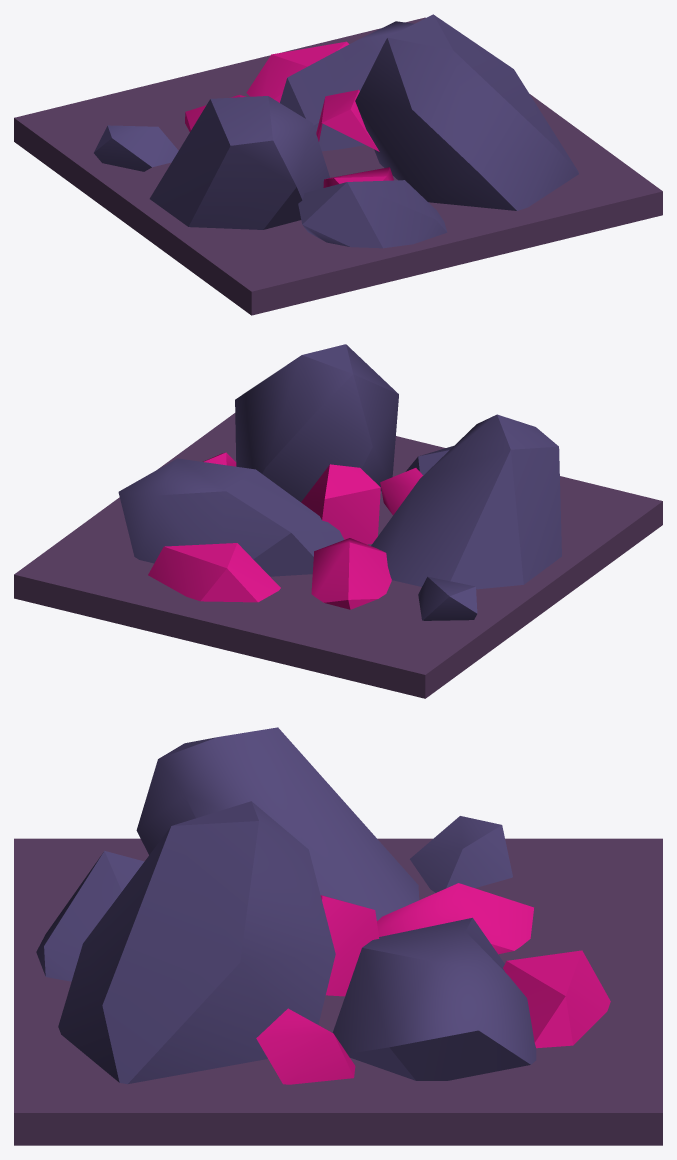
File: TileResourceMetal.fbx
3 renders of one model, top to bottom at view 1: azimuth 30°, elevation 25°; view 2: azimuth 150°, elevation 25°; view 3: azimuth 270°, elevation 25°, orthographic. The views are drawn at different scales.
Parts seen in each view (by area): view 1: TileResource-Metal; view 2: TileResource-Metal; view 3: TileResource-Metal.
Boxes of the visible parts, bbox=[...] form: TileResource-Metal: bbox=[14, 14, 662, 315]; TileResource-Metal: bbox=[14, 344, 662, 698]; TileResource-Metal: bbox=[14, 727, 662, 1145].
Bounding box in the file's own units: 200 × 78.8 × 200.
